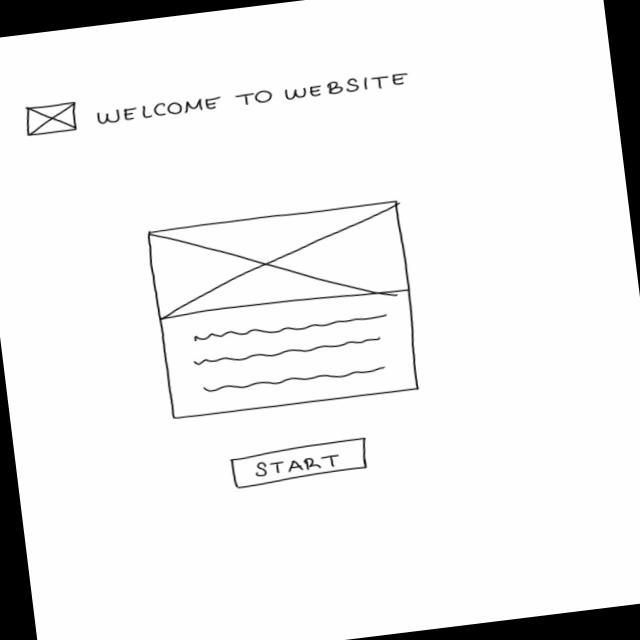button: (229, 436, 372, 492)
container: (158, 284, 425, 423)
image: (145, 197, 415, 324), (25, 100, 82, 139)
label: (92, 71, 411, 128)
textbox: (190, 309, 398, 398)
